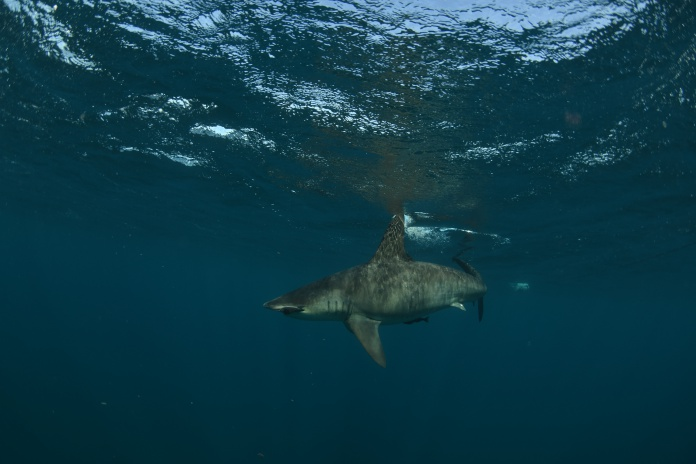Hammer: (251, 198, 504, 362)
